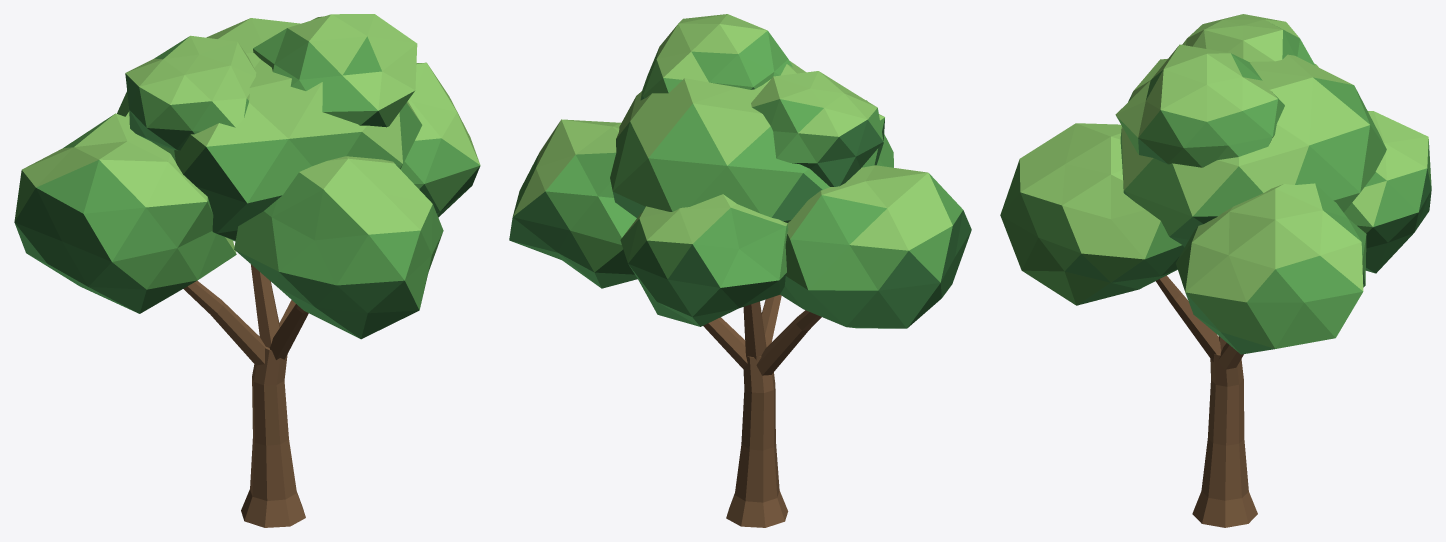
File: tree_broadleaf_b.glb
3 views of the same model, side by side, from view 1: azimuth 30°, elevation 25°; view 2: azimuth 150°, elevation 25°; view 3: azimuth 270°, elevation 25° (orthographic). The views are drawn at different scales.
Visible parts, largest first — view 1: tree_broadleaf_b; view 2: tree_broadleaf_b; view 3: tree_broadleaf_b.
Part boxes in pixels (x1,y1,x2,y2): tree_broadleaf_b: (14,14,480,527); tree_broadleaf_b: (509,14,971,527); tree_broadleaf_b: (1000,14,1431,527).
Bounding box in the file's own units: 10.85 × 11.67 × 9.44.
